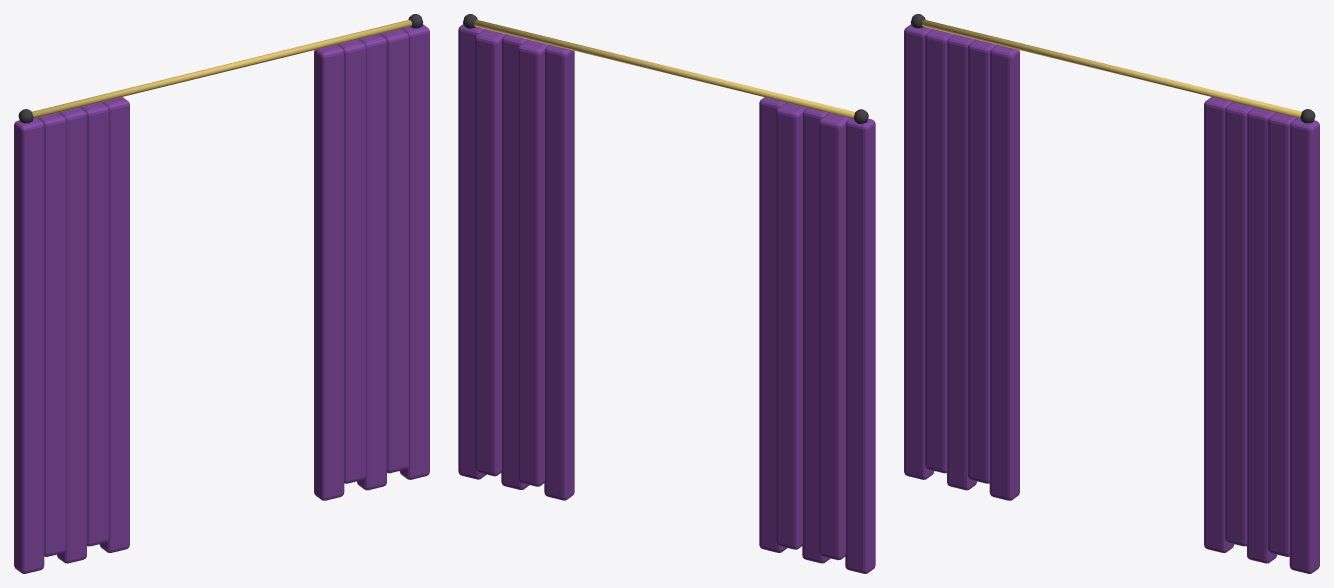
File: drapes_purple_heavy.glb
3 views of the same model, side by side, from view 1: azimuth 30°, elevation 25°; view 2: azimuth 150°, elevation 25°; view 3: azimuth 330°, elevation 25° (orthographic).
Visible parts, largest first — view 1: GD_drapes_purple_heavy__m2, GD_drapes_purple_heavy__m0; view 2: GD_drapes_purple_heavy__m2, GD_drapes_purple_heavy__m0; view 3: GD_drapes_purple_heavy__m2, GD_drapes_purple_heavy__m0.
Boxes of the visible parts, left/top/right/bottom form: GD_drapes_purple_heavy__m2: left=14, top=24, right=429, bottom=573; GD_drapes_purple_heavy__m0: left=32, top=19, right=411, bottom=118; GD_drapes_purple_heavy__m2: left=458, top=24, right=875, bottom=573; GD_drapes_purple_heavy__m0: left=474, top=20, right=855, bottom=118; GD_drapes_purple_heavy__m2: left=904, top=24, right=1319, bottom=573; GD_drapes_purple_heavy__m0: left=922, top=19, right=1301, bottom=118.
Size of the model in its own units: 2.1 by 2.25 by 0.14.
